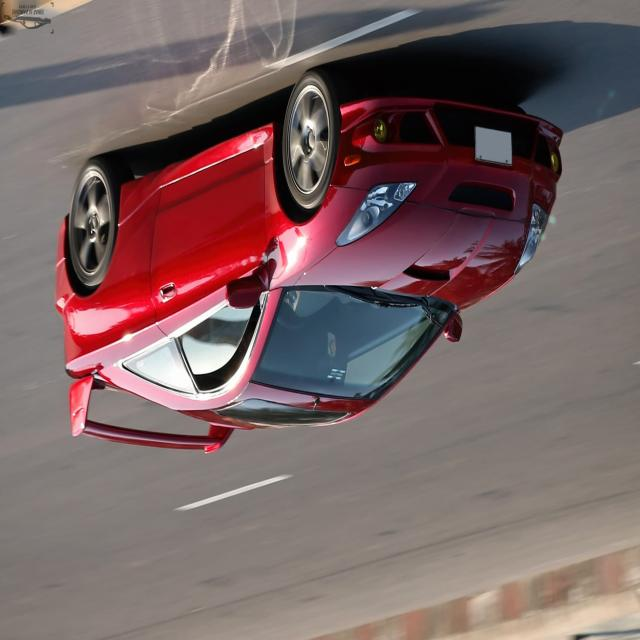red: (55, 55, 558, 487)
